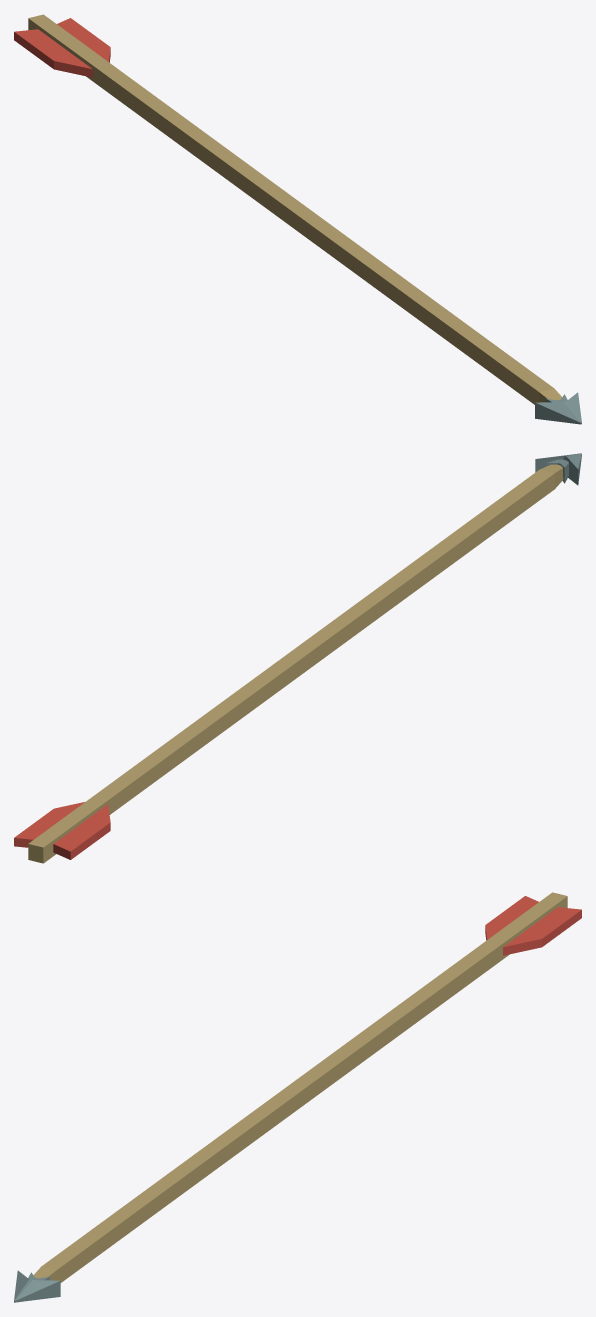
Rendered from t1shell.fbx.
3 renders of one model, top to bottom at view 1: azimuth 30°, elevation 25°; view 2: azimuth 150°, elevation 25°; view 3: azimuth 330°, elevation 25°, orthographic.
Parts seen in each view (by area): view 1: Cube, Cube.005, Cube.002; view 2: Cube, Cube.005, Cube.002; view 3: Cube, Cube.005, Cube.002.
Boxes of the visible parts, x1,y1,x2,y2 form: Cube: (28, 14, 562, 404); Cube.005: (14, 18, 110, 77); Cube.002: (535, 392, 581, 424); Cube: (28, 464, 563, 863); Cube.005: (14, 802, 110, 859); Cube.002: (535, 453, 581, 485); Cube: (33, 892, 567, 1282); Cube.005: (485, 896, 581, 955); Cube.002: (14, 1270, 60, 1302).
Bounding box in the file's own units: 3.7 × 1.25 × 61.72.
